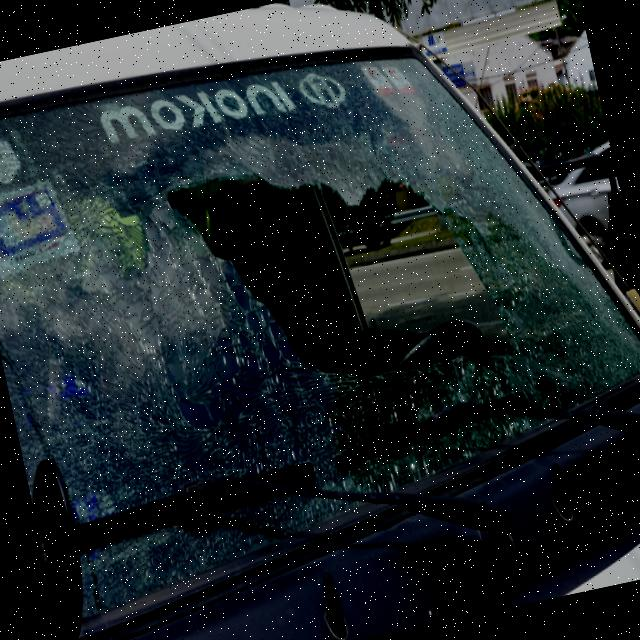Windshield: (0, 52, 584, 634)
